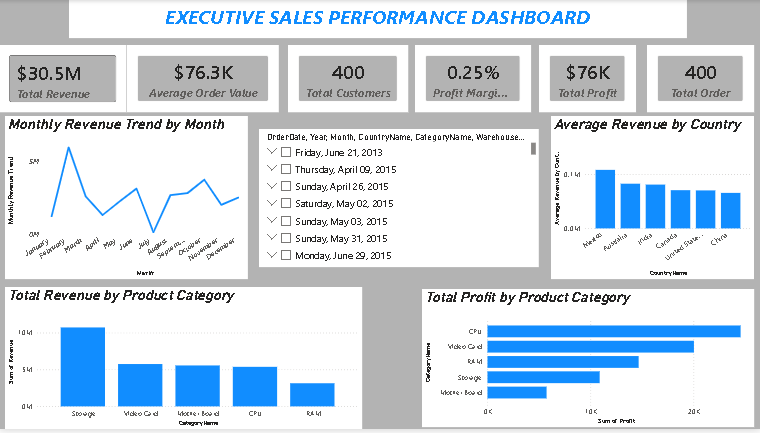

The page's visual inventory and layout, read from the dashboard file:
{"tool":"powerbi","page":{"name":"Executive Sales Analysis Dashboard","canvas":[1280,720],"ordinal":0},"visuals":[{"type":"cardVisual","fields":{"Data":["ML_Dataset_Cleaned.Total Revenue"]},"box":[0,75.1,214,113.4],"z":0},{"type":"cardVisual","fields":{"Data":["ML_Dataset_Cleaned.Total Profit"]},"box":[907.1,75.6,162.9,112.5],"z":1000},{"type":"cardVisual","fields":{"Data":["ML_Dataset_Cleaned.Total Order"]},"box":[1088.5,75.6,179.7,112.5],"z":2000},{"type":"cardVisual","fields":{"Data":["ML_Dataset_Cleaned.Total Customers"]},"box":[485.5,75.6,201.6,112.5],"z":3000},{"type":"cardVisual","fields":{"Data":["ML_Dataset_Cleaned.Average Order Value"]},"box":[215,75.6,255.3,112.5],"z":4000},{"type":"cardVisual","fields":{"Data":["ML_Dataset_Cleaned.Profit Margin %"]},"box":[698.8,75.6,194.9,112.5],"z":5000},{"type":"lineChart","fields":{"Category":["ML_Dataset_Cleaned.OrderDate.Variation.Date Hierarchy.Month"],"Y":["Sum(ML_Dataset_Cleaned.Revenue)"]},"box":[10.1,194.9,408.2,273.8],"z":6000},{"type":"columnChart","title":"Total Revenue by Product Category","fields":{"Y":["Sum(ML_Dataset_Cleaned.Revenue)"],"Category":["ML_Dataset_Cleaned.CategoryName"]},"box":[10.1,482.1,599.7,238.5],"z":7000},{"type":"clusteredBarChart","title":"Total Profit by Product Category","fields":{"Y":["Sum(ML_Dataset_Cleaned.Profit)"],"Category":["ML_Dataset_Cleaned.CategoryName"]},"box":[710.6,485.5,557.7,231.8],"z":8000},{"type":"clusteredColumnChart","title":"Average Revenue by Country ","fields":{"Category":["ML_Dataset_Cleaned.CountryName"],"Y":["Avg(ML_Dataset_Cleaned.Revenue)"]},"box":[927.2,194.9,341,273.8],"z":9000},{"type":"slicer","fields":{"Values":["ML_Dataset_Cleaned.OrderDate","ML_Dataset_Cleaned.OrderDate.Variation.Date Hierarchy.Year","ML_Dataset_Cleaned.OrderDate.Variation.Date Hierarchy.Month","ML_Dataset_Cleaned.CountryName","ML_Dataset_Cleaned.CategoryName","ML_Dataset_Cleaned.WarehouseName"]},"box":[436.7,216.7,470.3,231.8],"z":10000},{"type":"textbox","box":[117.6,0,1038.1,63.8],"z":11000}]}

Visuals, with their boxes in screenshot pixels (x1, y1, x2, y2), scaled from the page's 1280x720 canvas onto the 760x433 screenshot:
cardVisual - ML_Dataset_Cleaned.Total Revenue: x1=0 y1=45 x2=127 y2=113
cardVisual - ML_Dataset_Cleaned.Total Profit: x1=539 y1=45 x2=635 y2=113
cardVisual - ML_Dataset_Cleaned.Total Order: x1=646 y1=45 x2=753 y2=113
cardVisual - ML_Dataset_Cleaned.Total Customers: x1=288 y1=45 x2=408 y2=113
cardVisual - ML_Dataset_Cleaned.Average Order Value: x1=128 y1=45 x2=279 y2=113
cardVisual - ML_Dataset_Cleaned.Profit Margin %: x1=415 y1=45 x2=531 y2=113
lineChart - ML_Dataset_Cleaned.OrderDate.Variation.Date Hierarchy.Month x Sum(ML_Dataset_Cleaned.Revenue): x1=6 y1=117 x2=248 y2=282
"Total Revenue by Product Category" columnChart: x1=6 y1=290 x2=362 y2=432
"Total Profit by Product Category" clusteredBarChart: x1=422 y1=292 x2=753 y2=431
"Average Revenue by Country " clusteredColumnChart: x1=551 y1=117 x2=753 y2=282
slicer - ML_Dataset_Cleaned.OrderDate x ML_Dataset_Cleaned.OrderDate.Variation.Date Hierarchy.Year: x1=259 y1=130 x2=539 y2=270
textbox: x1=70 y1=0 x2=686 y2=38
